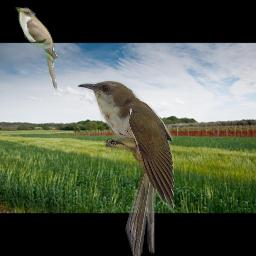Cuckoo: (77, 79, 174, 256), (13, 5, 59, 91)
